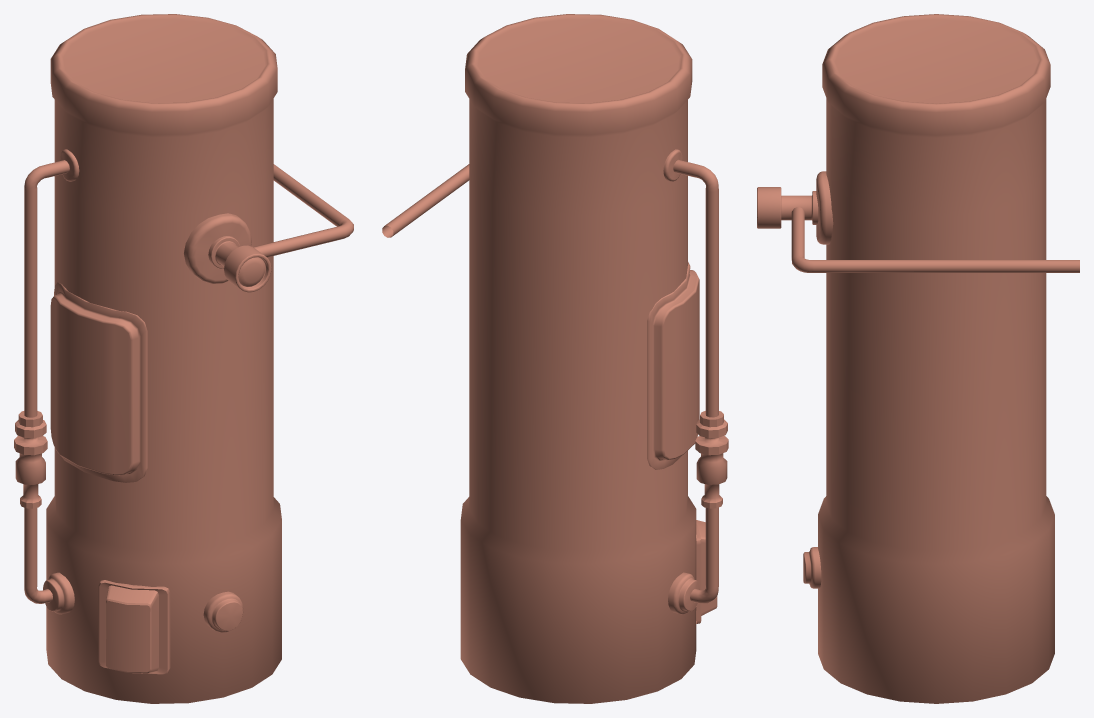
Rendered from hot water cylinder.fbx.
3 renders of one model, left to right at view 1: azimuth 30°, elevation 25°; view 2: azimuth 150°, elevation 25°; view 3: azimuth 270°, elevation 25°, orthographic.
Parts seen in each view (by area): view 1: pCylinder11; view 2: pCylinder11; view 3: pCylinder11.
Part boxes in pixels (<box>): pCylinder11: <box>14,14,353,703</box>; pCylinder11: <box>382,14,728,703</box>; pCylinder11: <box>757,14,1079,703</box>.
Size of the model in its own units: 1.12 by 2.34 by 1.15.
